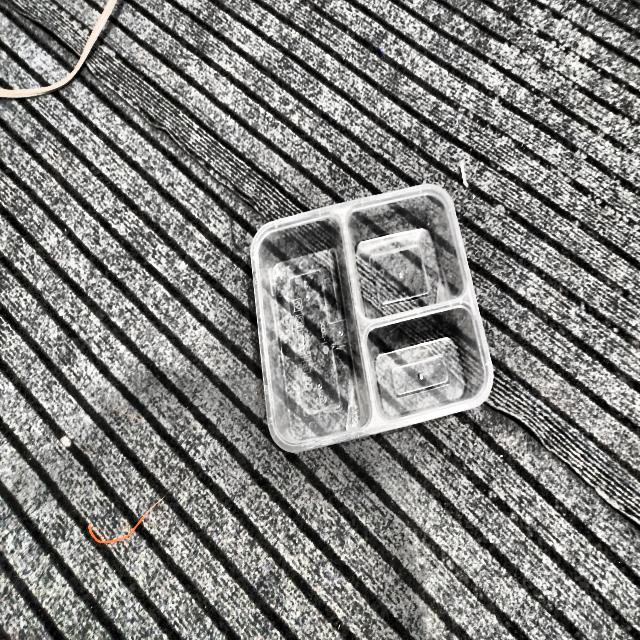plastic container: (251, 185, 494, 452)
